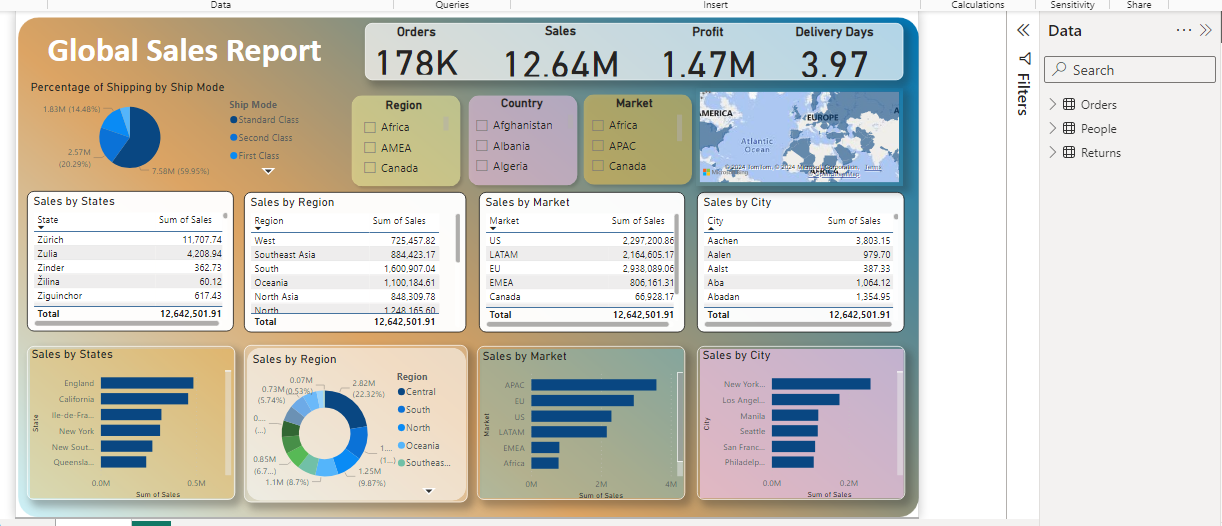

The dashboard page shown, as its layout file describes it:
{"tool":"powerbi","page":{"name":"Page 1","canvas":[1280,720],"ordinal":0},"visuals":[{"type":"shape","box":[796.3,108.5,172,146],"z":0},{"type":"shape","box":[633.6,109.9,172.7,145.6],"z":1000},{"type":"shape","box":[468,109.9,172.7,147],"z":2000},{"type":"shape","box":[966.1,475.2,295.4,218.3],"z":3000},{"type":"shape","box":[17.1,475.2,295.4,218.3],"z":4000},{"type":"shape","box":[655,475.2,295.4,218.3],"z":5000},{"type":"shape","box":[323.9,473.8,316.8,222.6],"z":6000},{"type":"shape","box":[496.6,17.1,763.4,81.3],"z":7000},{"type":"pieChart","title":"Percentage of Shipping by Ship Mode","fields":{"Category":["Orders.Ship Mode"],"Y":["Sum(Orders.Sales)"]},"box":[17,97.8,399.7,141.7],"z":8000},{"type":"clusteredBarChart","title":"Sales by City","fields":{"Category":["Orders.City"],"Y":["Sum(Orders.Sales)"]},"box":[968.9,478,294,218.3],"z":9000},{"type":"clusteredBarChart","title":"Sales by States","fields":{"Category":["Orders.State"],"Y":["Sum(Orders.Sales)"]},"box":[18.6,476.6,292.5,219.8],"z":10000},{"type":"donutChart","title":"Sales by Region","fields":{"Category":["Orders.Region"],"Y":["Sum(Orders.Sales)"]},"box":[331.1,483.7,302.5,209.8],"z":11000},{"type":"clusteredBarChart","title":"Sales by Market","fields":{"Category":["Orders.Market"],"Y":["Sum(Orders.Sales)"]},"box":[657.8,479.5,294,218.3],"z":12000},{"type":"tableEx","title":"Sales by States","fields":{"Values":["Orders.State","Sum(Orders.Sales)"]},"box":[17.3,254.9,293,199],"z":13000},{"type":"tableEx","title":"Sales by Region","fields":{"Values":["Orders.Region","Sum(Orders.Sales)"]},"box":[324,256.3,315.4,198.7],"z":14000},{"type":"tableEx","title":"Sales by Market","fields":{"Values":["Orders.Market","Sum(Orders.Sales)"]},"box":[658.1,256.3,292.3,198.7],"z":15000},{"type":"tableEx","title":"Sales by City","fields":{"Values":["Orders.City","Sum(Orders.Sales)"]},"box":[966.2,256.3,293.8,198.7],"z":16000},{"type":"textbox","box":[41.4,20,480.9,88.5],"z":17000},{"type":"card","title":"Orders","fields":{"Values":["Sum(Orders.Quantity)"]},"box":[498,18.6,142.7,78.5],"z":18000},{"type":"card","title":"Sales","fields":{"Values":["Sum(Orders.Sales)"]},"box":[677.8,17.1,191.2,81.3],"z":19000},{"type":"card","title":"Profit","fields":{"Values":["Sum(Orders.Profit)"]},"box":[899,18.6,167,79.9],"z":20000},{"type":"card","title":"Delivery Days","fields":{"Values":["Avg(Orders.Delivery Days)"]},"box":[1064.5,18.6,194.1,79.9],"z":21000},{"type":"slicer","title":"Country","fields":{"Values":["Orders.Country"]},"box":[640.7,119.9,155.5,119.9],"z":22000},{"type":"slicer","title":"Region","fields":{"Values":["People.Region"]},"box":[482.3,122.7,138.4,114.2],"z":23000},{"type":"slicer","title":"Market","fields":{"Values":["Orders.Market"]},"box":[804.8,119.9,145.6,119.9],"z":24000},{"type":"filledMap","fields":{"Category":["Orders.Country"]},"box":[965.2,109.1,293.4,138.9],"z":25000}]}

Visuals, with their boxes in screenshot pixels (x1, y1, x2, y2):
shape: [left=579, top=81, right=703, bottom=186]
shape: [left=462, top=82, right=586, bottom=187]
shape: [left=343, top=82, right=467, bottom=188]
shape: [left=701, top=345, right=914, bottom=502]
shape: [left=19, top=345, right=231, bottom=502]
shape: [left=477, top=345, right=690, bottom=502]
shape: [left=239, top=344, right=467, bottom=504]
shape: [left=364, top=15, right=913, bottom=74]
"Percentage of Shipping by Ship Mode" pieChart: [left=19, top=74, right=306, bottom=175]
"Sales by City" clusteredBarChart: [left=703, top=347, right=915, bottom=504]
"Sales by States" clusteredBarChart: [left=20, top=346, right=230, bottom=504]
"Sales by Region" donutChart: [left=244, top=351, right=462, bottom=502]
"Sales by Market" clusteredBarChart: [left=479, top=348, right=691, bottom=505]
"Sales by States" tableEx: [left=19, top=187, right=230, bottom=330]
"Sales by Region" tableEx: [left=239, top=188, right=466, bottom=330]
"Sales by Market" tableEx: [left=480, top=188, right=690, bottom=330]
"Sales by City" tableEx: [left=701, top=188, right=913, bottom=330]
textbox: [left=36, top=18, right=382, bottom=81]
"Orders" card: [left=365, top=17, right=467, bottom=73]
"Sales" card: [left=494, top=15, right=631, bottom=74]
"Profit" card: [left=653, top=17, right=773, bottom=74]
"Delivery Days" card: [left=772, top=17, right=912, bottom=74]
"Country" slicer: [left=467, top=89, right=579, bottom=176]
"Region" slicer: [left=353, top=91, right=453, bottom=174]
"Market" slicer: [left=585, top=89, right=690, bottom=176]
filledMap - Orders.Country: [left=701, top=82, right=912, bottom=182]
